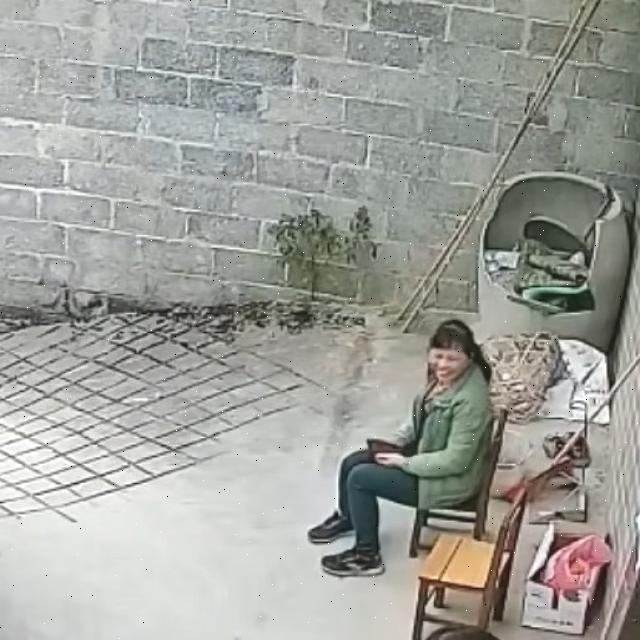sitting: (309, 320, 493, 576)
